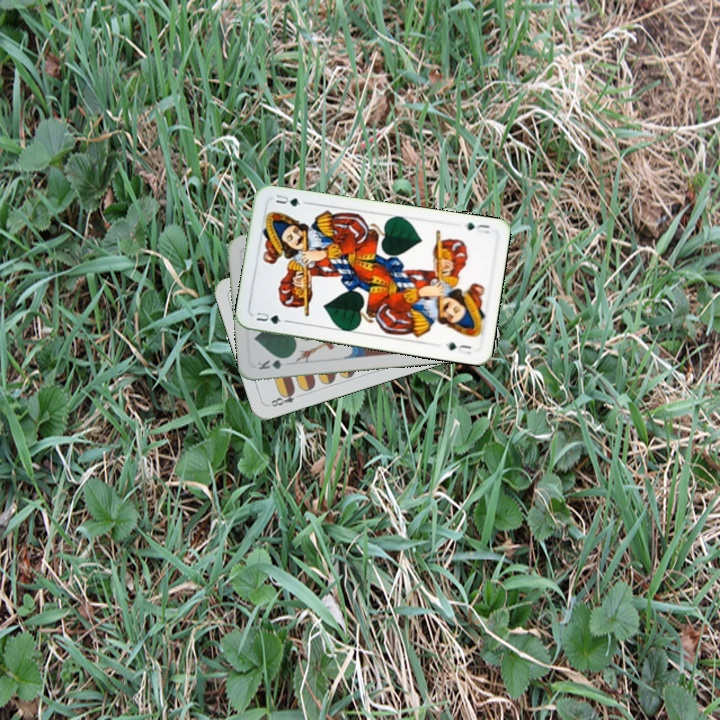E8: (265, 386, 305, 409)
GK: (253, 353, 292, 372)
GU: (252, 308, 290, 327), (463, 218, 493, 236)
